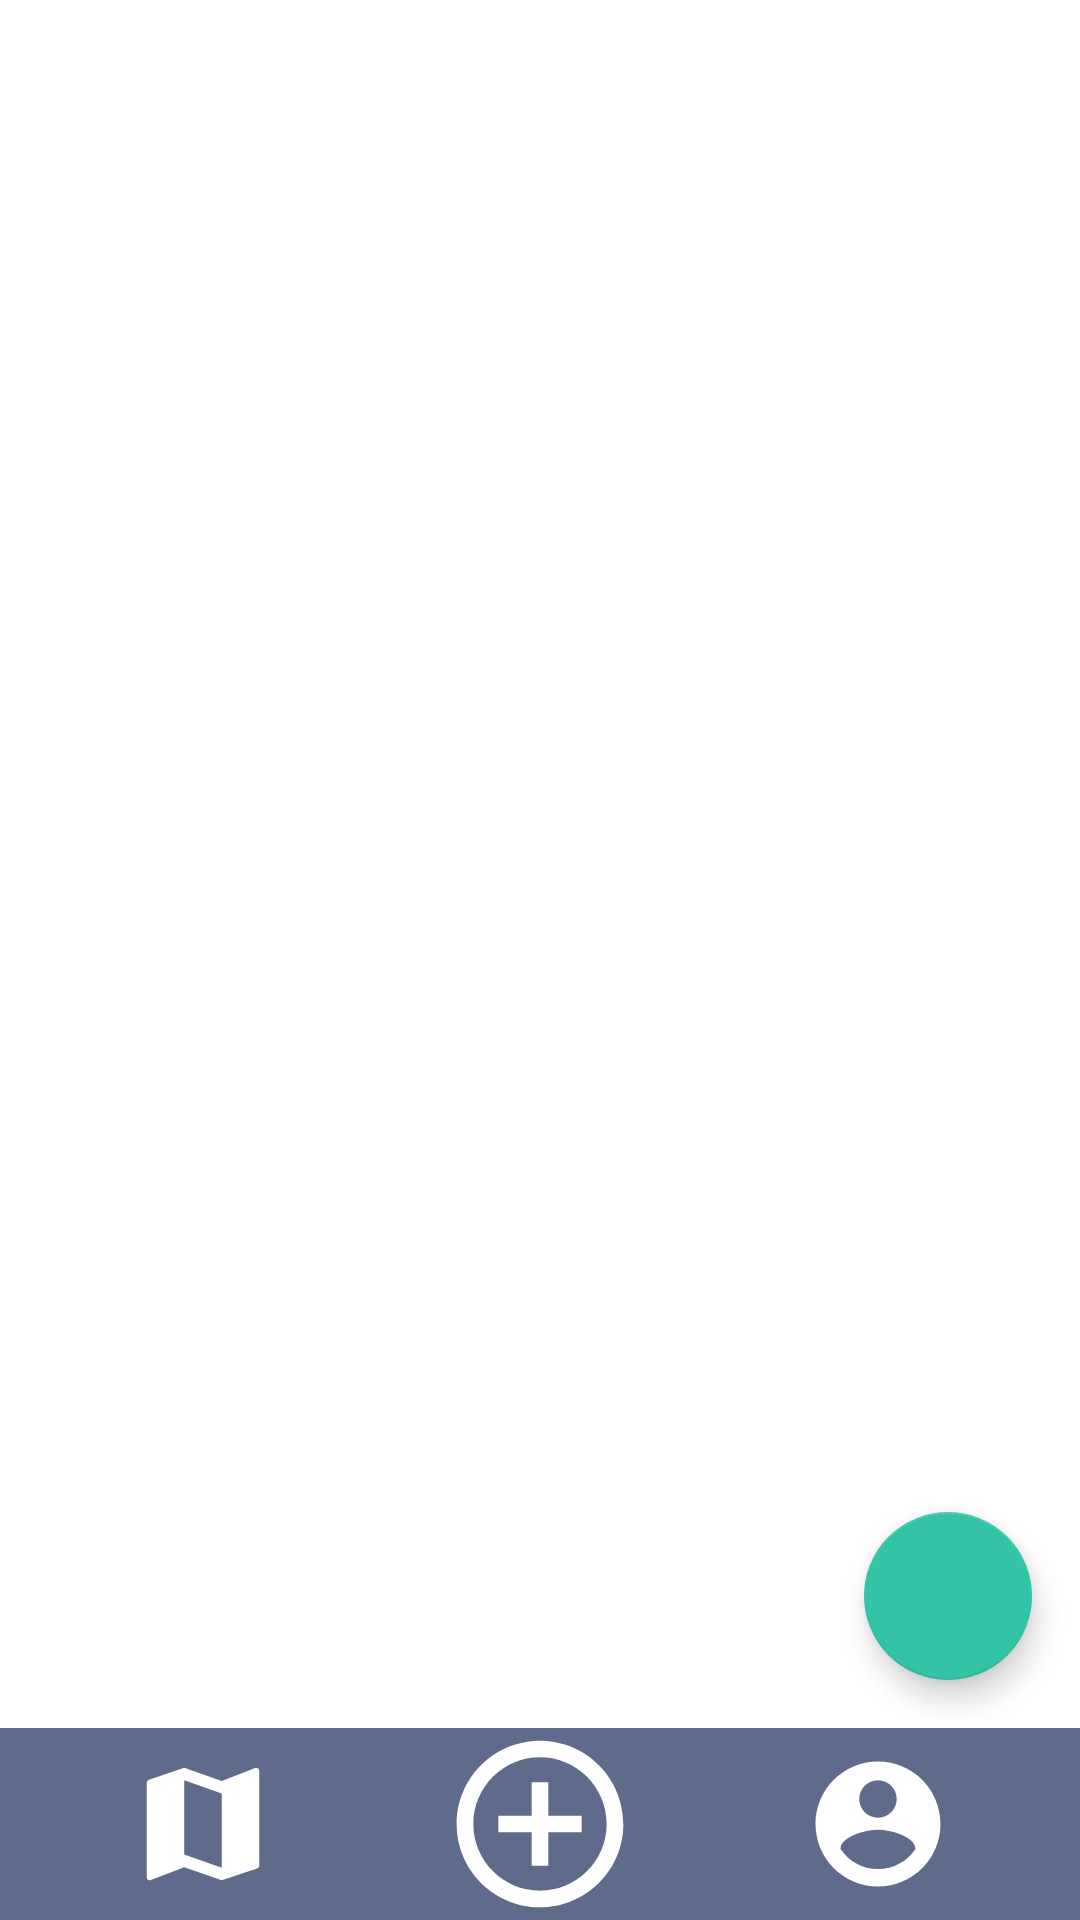

Icon click points for this 1080w x 1920h phone screenshot, format [x,y]:
create request: [540,1824]
profile: [878,1824]
